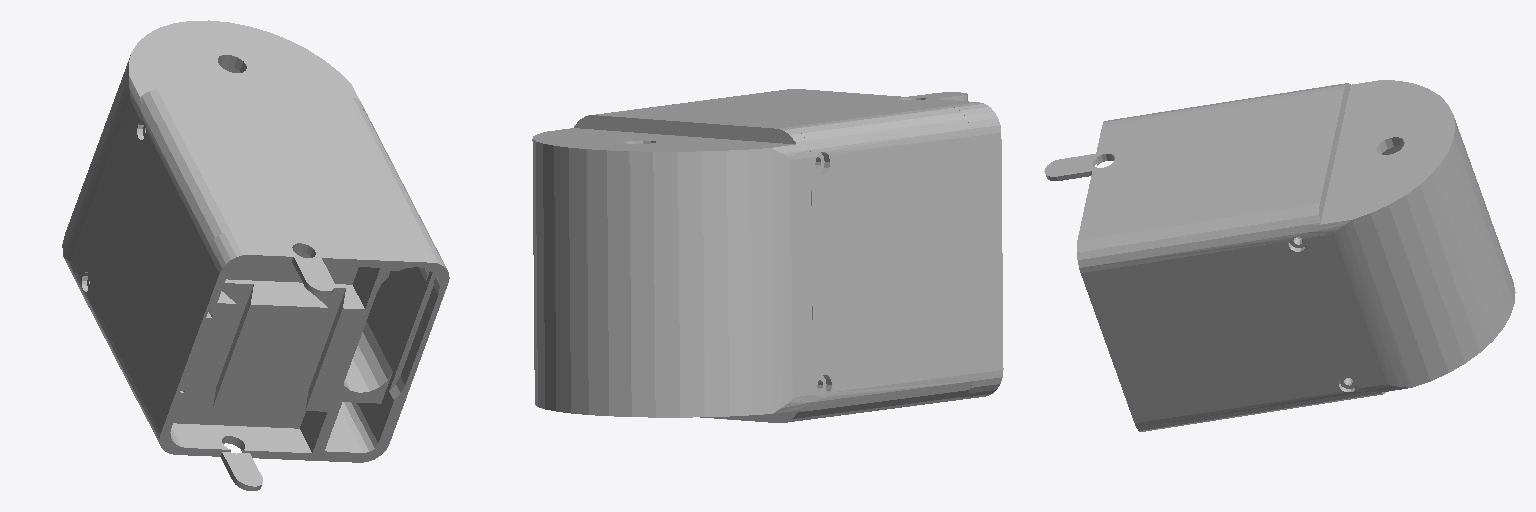
The robot description file, URDF, robot "jointbox_v1":
<?xml version="1.0" encoding="utf-8"?>
<!-- This URDF was automatically created by SolidWorks to URDF Exporter! Originally created by [author] ([email redacted]) 
     Commit Version: 1.5.1-0-g916b5db  Build Version: 1.5.7152.31018
     For more information, please see http://wiki.ros.org/sw_urdf_exporter -->
<robot
  name="jointbox_v1">
  <link
    name="base_link">
    <inertial>
      <origin
        xyz="-0.0629929230197034 -0.101077489654191 -0.0741346542430378"
        rpy="0 0 0" />
      <mass
        value="0.0828799999999998" />
      <inertia
        ixx="0.000151718187490998"
        ixy="-3.99680555811009E-07"
        ixz="-3.9232079218258E-07"
        iyy="0.000109709295625709"
        iyz="3.73227652786365E-09"
        izz="0.000109709156883293" />
    </inertial>
    <visual>
      <origin
        xyz="0 0 0"
        rpy="0 0 0" />
      <geometry>
        <mesh
          filename="package://jointbox_v1/meshes/base_link.STL" />
      </geometry>
      <material
        name="">
        <color
          rgba="0.749019607843137 0.749019607843137 0.749019607843137 1" />
      </material>
    </visual>
    <collision>
      <origin
        xyz="0 0 0"
        rpy="0 0 0" />
      <geometry>
        <mesh
          filename="package://jointbox_v1/meshes/base_link.STL" />
      </geometry>
    </collision>
  </link>
</robot>

--- Render facts (derived) ---
Views: 3 orthographic renders of the robot side by side, from view 1: azimuth 30°, elevation 25°; view 2: azimuth 150°, elevation 25°; view 3: azimuth 270°, elevation 25°.
Robot: jointbox_v1 — 1 links, 0 joints (none); root link base_link; default pose: all joints at 0.
Links seen in each view (by area): view 1: base_link; view 2: base_link; view 3: base_link.
Link boxes in pixels (bbox=[...]): base_link: bbox=[62, 20, 449, 490]; base_link: bbox=[532, 89, 1003, 422]; base_link: bbox=[1044, 80, 1515, 431].
Bounding box of the posed robot: 0.1088 × 0.1624 × 0.1169 m (x, y, z).
1 mesh visuals loaded from 1 distinct referenced files (1 binary STL).